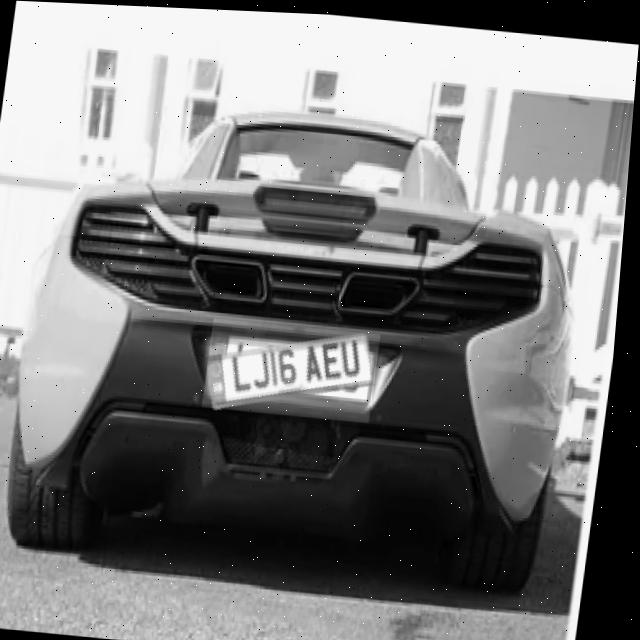LicensePlate: (214, 330, 381, 407)
